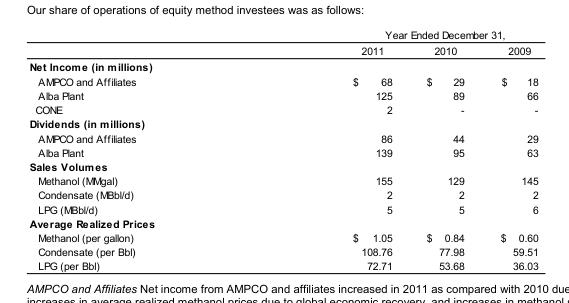table: (28, 28, 537, 271)
table column: (28, 28, 243, 271), (243, 28, 408, 271), (408, 28, 481, 271), (481, 28, 537, 271)
table column header: (28, 28, 537, 58)
table projected row header: (28, 58, 537, 73), (28, 116, 537, 130), (28, 159, 537, 173), (28, 216, 537, 230)
table row: (28, 42, 537, 58), (28, 58, 537, 73), (28, 73, 537, 88), (28, 130, 537, 145), (28, 201, 537, 216), (28, 28, 537, 42), (28, 88, 537, 102), (28, 102, 537, 116), (28, 116, 537, 130), (28, 145, 537, 159), (28, 159, 537, 173), (28, 173, 537, 187), (28, 187, 537, 201), (28, 216, 537, 230), (28, 230, 537, 244), (28, 244, 537, 258), (28, 258, 537, 271)
table spanning cell: (243, 28, 537, 42)
